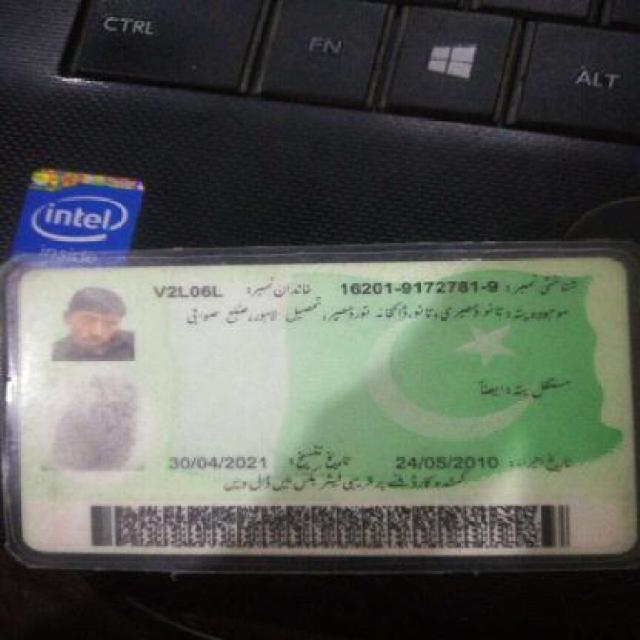Back: (12, 254, 631, 574)
